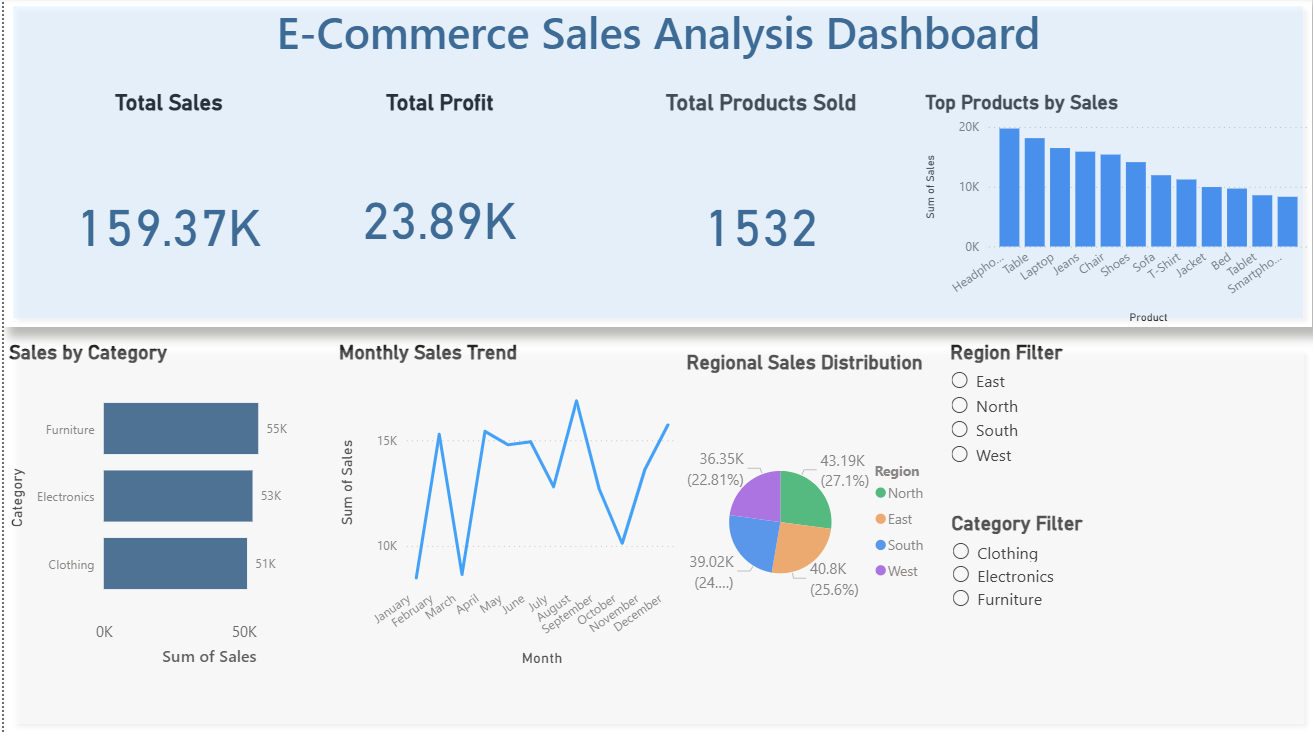

The page's visual inventory and layout, read from the dashboard file:
{"tool":"powerbi","page":{"name":"Page 1","canvas":[1280,720],"ordinal":0},"visuals":[{"type":"card","title":"Total Sales","fields":{"Values":["Sum(ecommerce_sales_powerbi_dataset.Sales)"]},"box":[0,90.1,322.5,233.8],"z":0},{"type":"card","title":"Total Profit","fields":{"Values":["Sum(ecommerce_sales_powerbi_dataset.Profit)"]},"box":[266.2,90.1,319.7,221.1],"z":1000},{"type":"card","title":"Total Products Sold","fields":{"Values":["Sum(ecommerce_sales_powerbi_dataset.Quantity)"]},"box":[585.9,90.1,309.9,233.8],"z":2000},{"type":"textbox","box":[0,0,1280.3,90.6],"z":3000},{"type":"clusteredBarChart","title":"Sales by Category","fields":{"Category":["ecommerce_sales_powerbi_dataset.Category"],"Y":["Sum(ecommerce_sales_powerbi_dataset.Sales)"]},"box":[0,336.6,322.5,323.9],"z":4000},{"type":"lineChart","title":"Monthly Sales Trend","fields":{"Category":["ecommerce_sales_powerbi_dataset.Order_Date.Variation.Date Hierarchy.Month"],"Y":["Sum(ecommerce_sales_powerbi_dataset.Sales)"]},"box":[322.5,336.6,340.8,323.9],"z":5000},{"type":"pieChart","title":"Regional Sales Distribution","fields":{"Category":["ecommerce_sales_powerbi_dataset.Region"],"Y":["Sum(ecommerce_sales_powerbi_dataset.Sales)"]},"box":[663.4,346.5,257.7,314.1],"z":6000},{"type":"clusteredColumnChart","title":"Top Products by Sales","fields":{"Category":["ecommerce_sales_powerbi_dataset.Product"],"Y":["Sum(ecommerce_sales_powerbi_dataset.Sales)"]},"box":[895.8,91.5,384.5,232.4],"z":7000},{"type":"listSlicer","title":"Region Filter","fields":{"Values":["ecommerce_sales_powerbi_dataset.Region"]},"box":[921.1,336.6,359.2,226.8],"z":8000},{"type":"listSlicer","title":"Category Filter","fields":{"Values":["ecommerce_sales_powerbi_dataset.Category"]},"box":[921.7,503.3,358.3,216.7],"z":9000},{"type":"shape","box":[0,0,1280,323.3],"z":10000},{"type":"shape","box":[0,336.7,1280,383.3],"z":11000}]}

Visuals, with their boxes in screenshot pixels (x1, y1, x2, y2), scaled from the page's 1280x720 canvas onto the 1313x732 screenshot:
"Total Sales" card: {"left": 0, "top": 92, "right": 331, "bottom": 329}
"Total Profit" card: {"left": 273, "top": 92, "right": 601, "bottom": 316}
"Total Products Sold" card: {"left": 601, "top": 92, "right": 919, "bottom": 329}
textbox: {"left": 0, "top": 0, "right": 1312, "bottom": 92}
"Sales by Category" clusteredBarChart: {"left": 0, "top": 342, "right": 331, "bottom": 672}
"Monthly Sales Trend" lineChart: {"left": 331, "top": 342, "right": 680, "bottom": 672}
"Regional Sales Distribution" pieChart: {"left": 681, "top": 352, "right": 945, "bottom": 672}
"Top Products by Sales" clusteredColumnChart: {"left": 919, "top": 93, "right": 1312, "bottom": 329}
"Region Filter" listSlicer: {"left": 945, "top": 342, "right": 1312, "bottom": 573}
"Category Filter" listSlicer: {"left": 945, "top": 512, "right": 1312, "bottom": 731}
shape: {"left": 0, "top": 0, "right": 1312, "bottom": 329}
shape: {"left": 0, "top": 342, "right": 1312, "bottom": 731}
